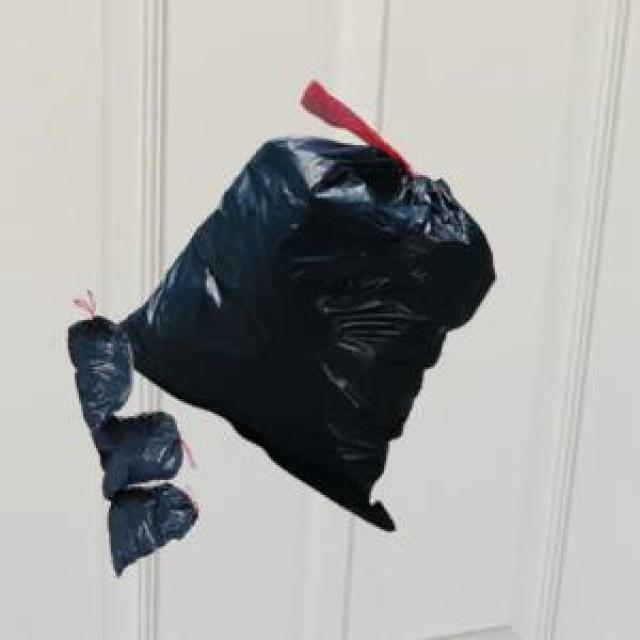miscellaneous trash: (113, 77, 491, 527), (64, 312, 194, 572)
